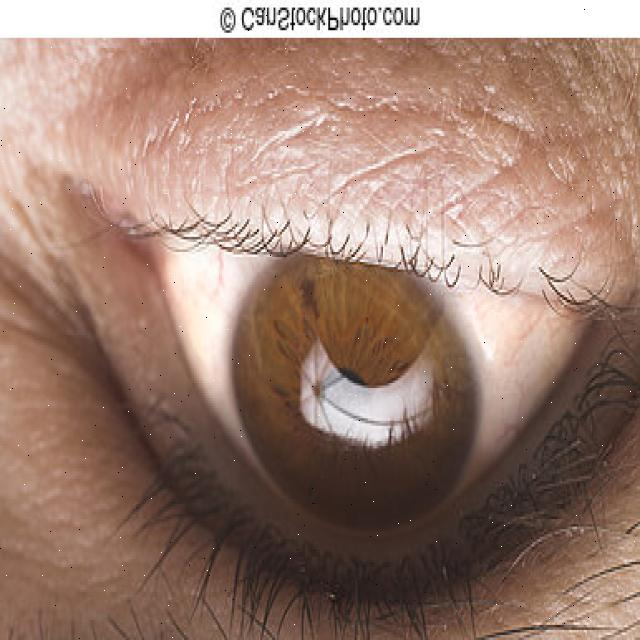Normal: (230, 233, 478, 546)
